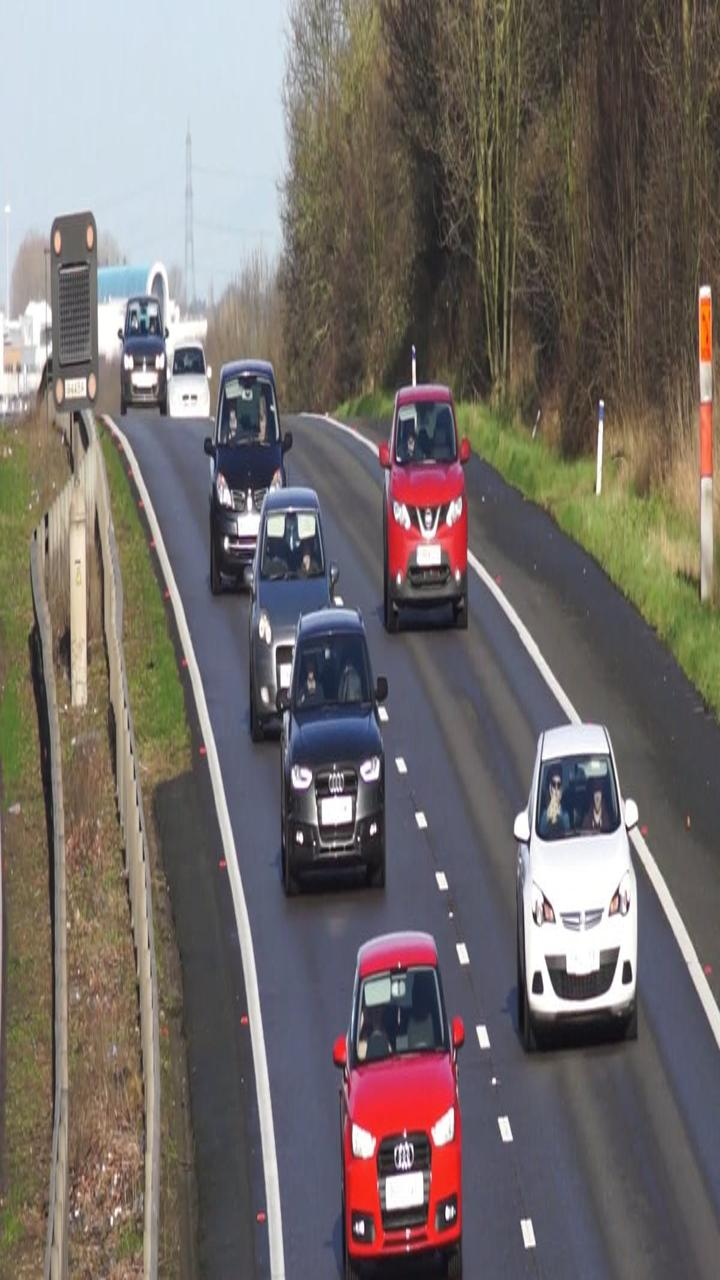vehicle: (504, 704, 655, 1048), (323, 925, 474, 1269), (274, 611, 415, 907), (246, 481, 378, 737), (207, 369, 339, 625), (375, 371, 499, 635), (112, 282, 194, 432)
